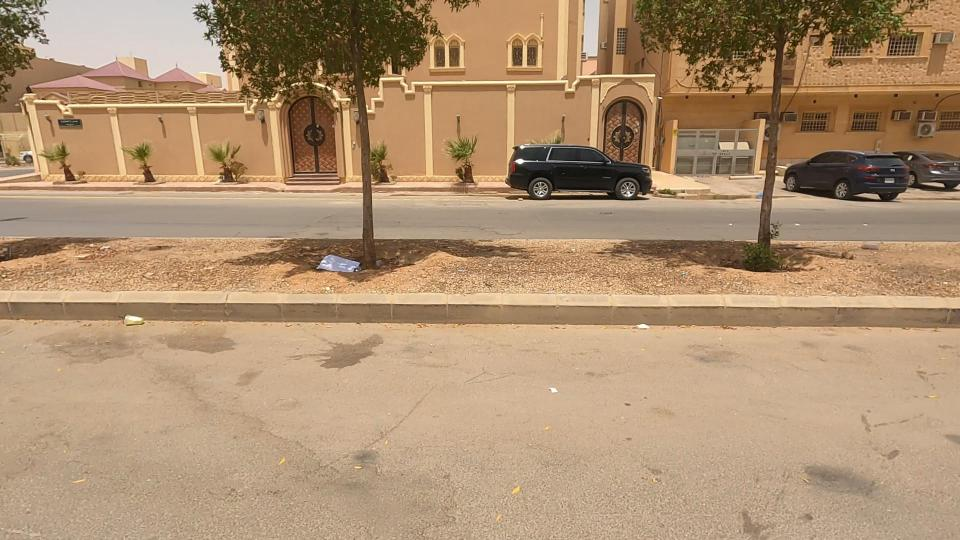CLUTTER_SIDEWALK: (293, 187, 824, 351), (0, 196, 346, 333)
GARBAGE: (273, 221, 396, 305), (107, 297, 168, 354)
